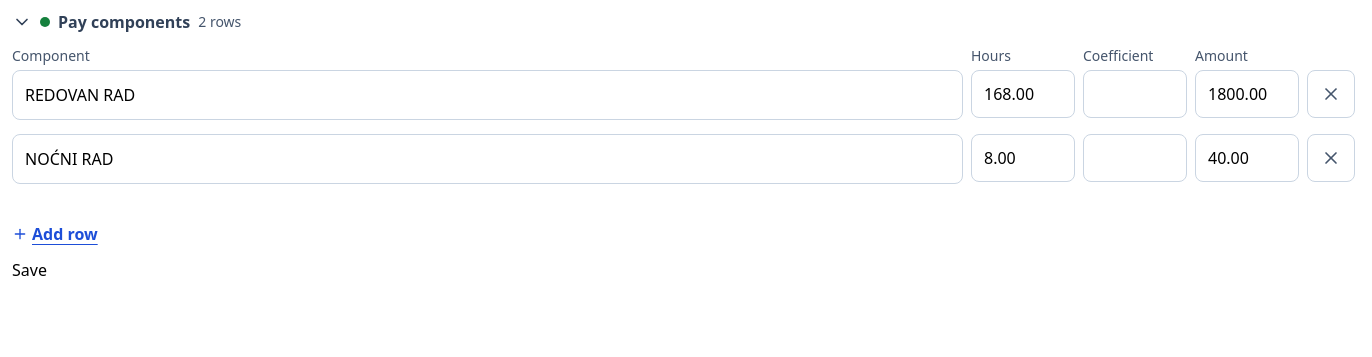
Test case: LineItemSection disclosure (Task 15 D9, D14) › adds a row with a text action rather than an outlined button
Step 1. Click the button "Add row" → [55, 234], box left=12, top=210, right=98, bottom=258
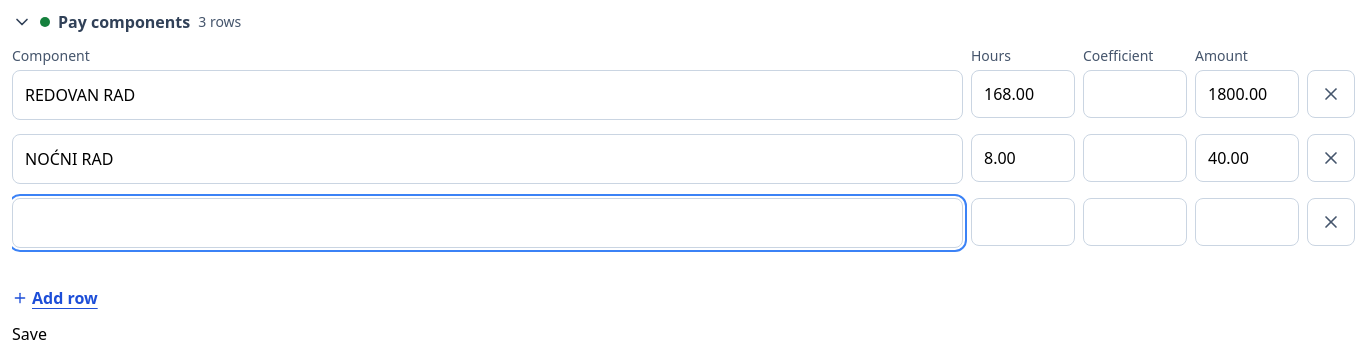
Now the text box with id "review-field-payComponents-2-naziv" is shown, box left=12, top=198, right=963, bottom=248
